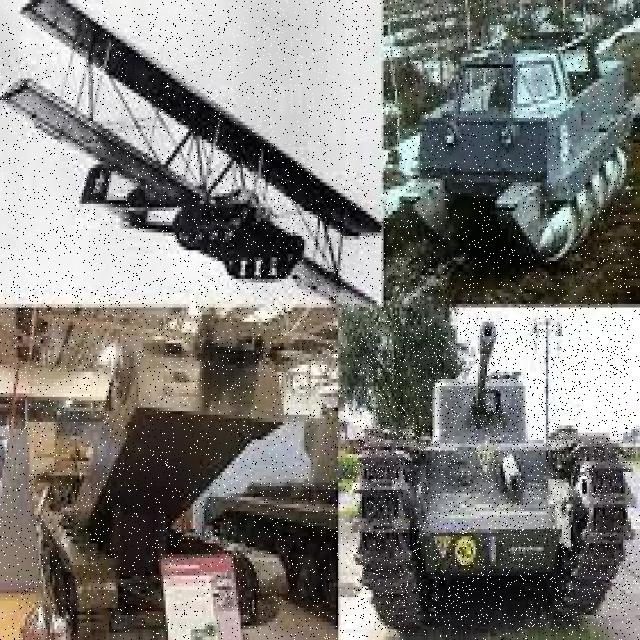MIL_MBT: (354, 319, 630, 629)
